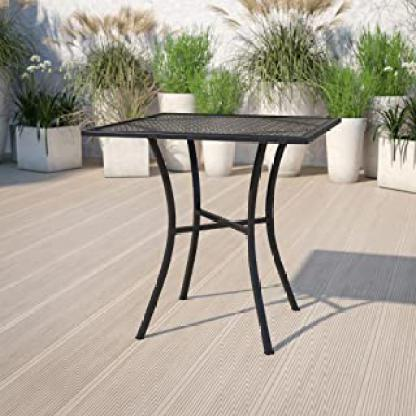table: (74, 107, 344, 359)
